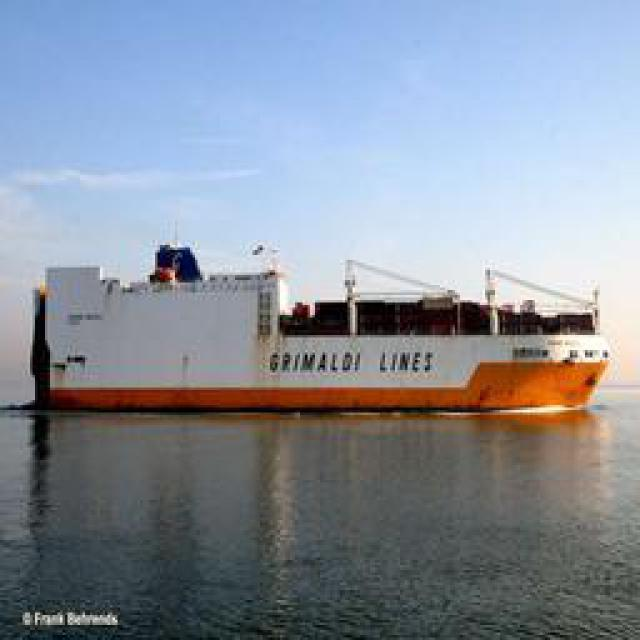Ship: (17, 235, 625, 423)
